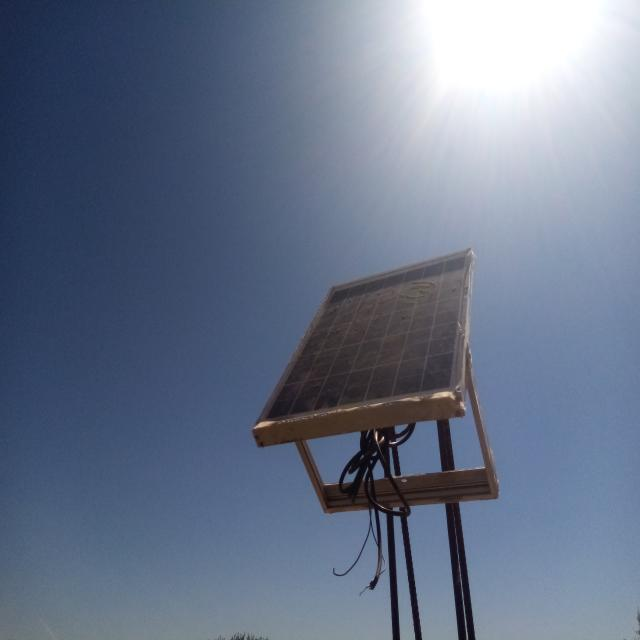faulty: (255, 250, 469, 427)
